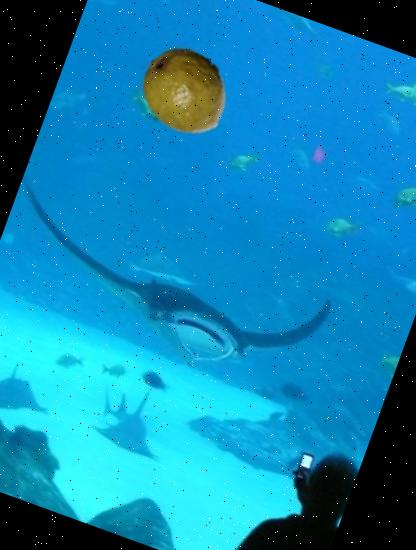Guava: (127, 32, 246, 152)
